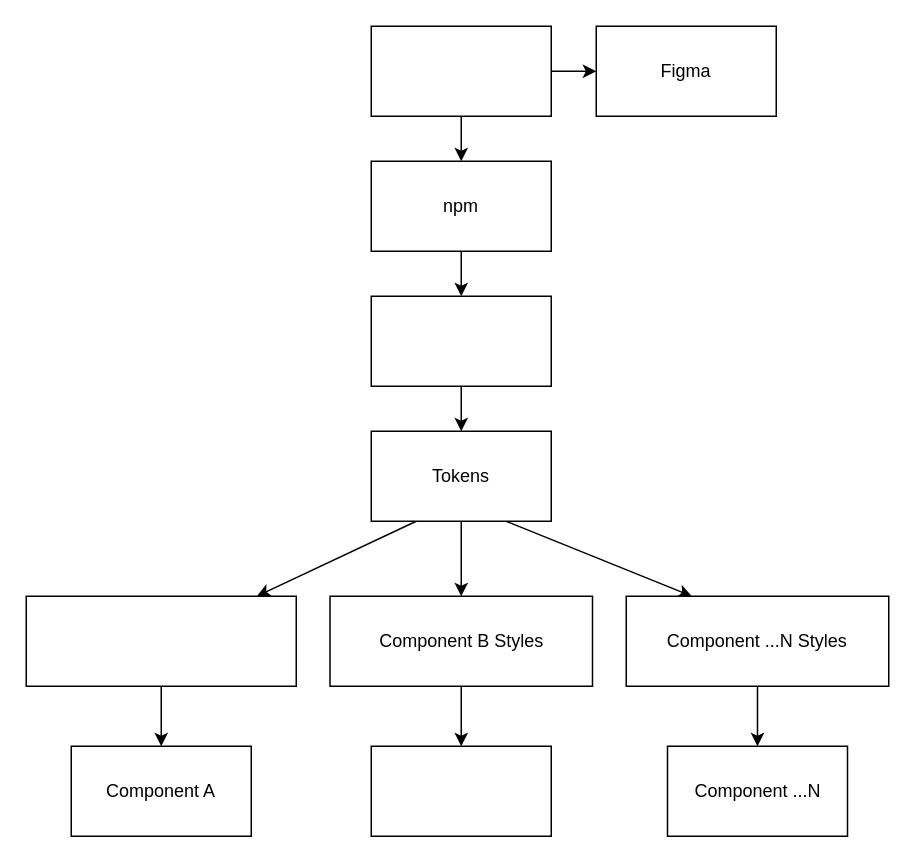
The diagram is 915 pixels wide and 863 high, and some of its shapes have lost their labels. Each missing label, with the centre of its shape:
"Component A Styles" goes at (x=160, y=640).
"Component B" goes at (x=460, y=790).
"Design Tokens GitHub" goes at (x=460, y=70).
"Forge" goes at (x=460, y=340).
